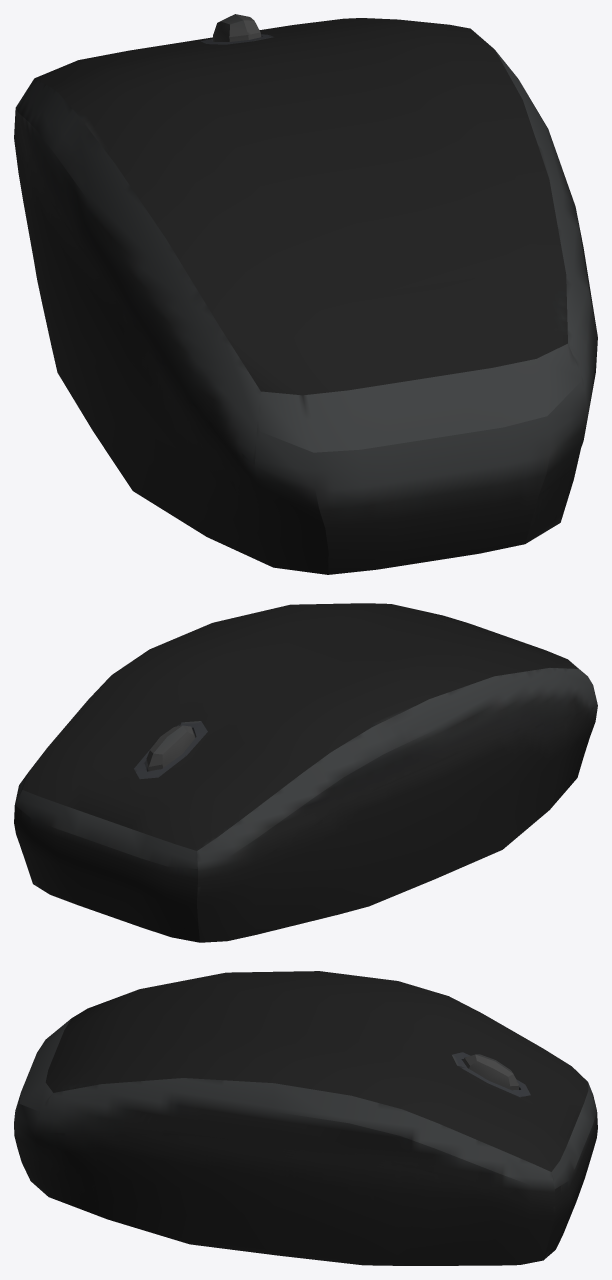
Rendered from ScrivaniaCopiaMouse.gltf.
The picture shows the model from 3 angles, top to bottom: view 1: azimuth 30°, elevation 25°; view 2: azimuth 150°, elevation 25°; view 3: azimuth 270°, elevation 25°; orthographic projection. The views are drawn at different scales.
Parts seen in each view (by area): view 1: Copia Mouse; view 2: Copia Mouse; view 3: Copia Mouse.
Boxes of the visible parts, x1,y1,x2,y2 form: Copia Mouse: [14, 14, 597, 574]; Copia Mouse: [14, 603, 597, 942]; Copia Mouse: [14, 971, 597, 1265].
Bounding box in the file's own units: 0.0579 × 0.0298 × 0.089.
1 material, 1 textured.
